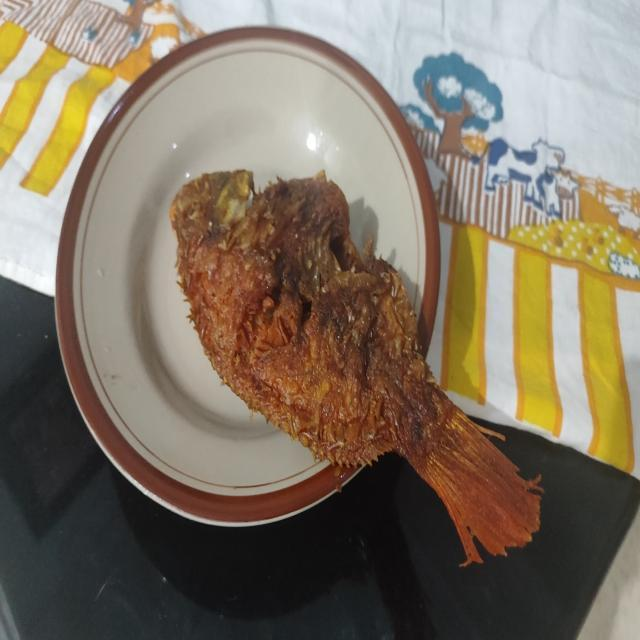ikan_mujair: (170, 170, 540, 565)
